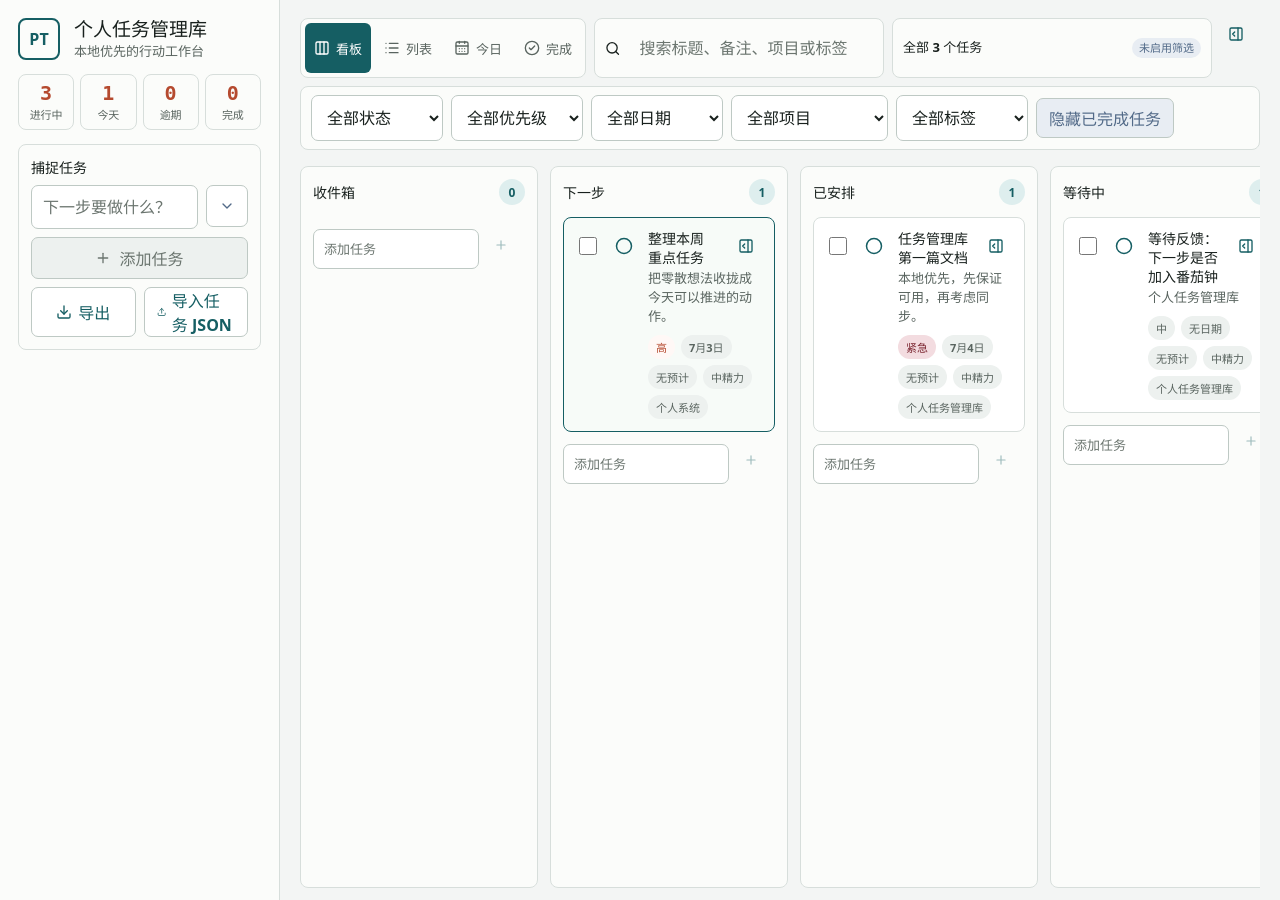
Test case: TaskWorkspace › progressively discloses quick-add details
The width and height of the screenshot is (1280, 900).
Check: the field named "任务标题" is shown, box [31,185,198,229]
Click the button named "展开详细字段" at x=227, y=206, box [206,185,248,227]
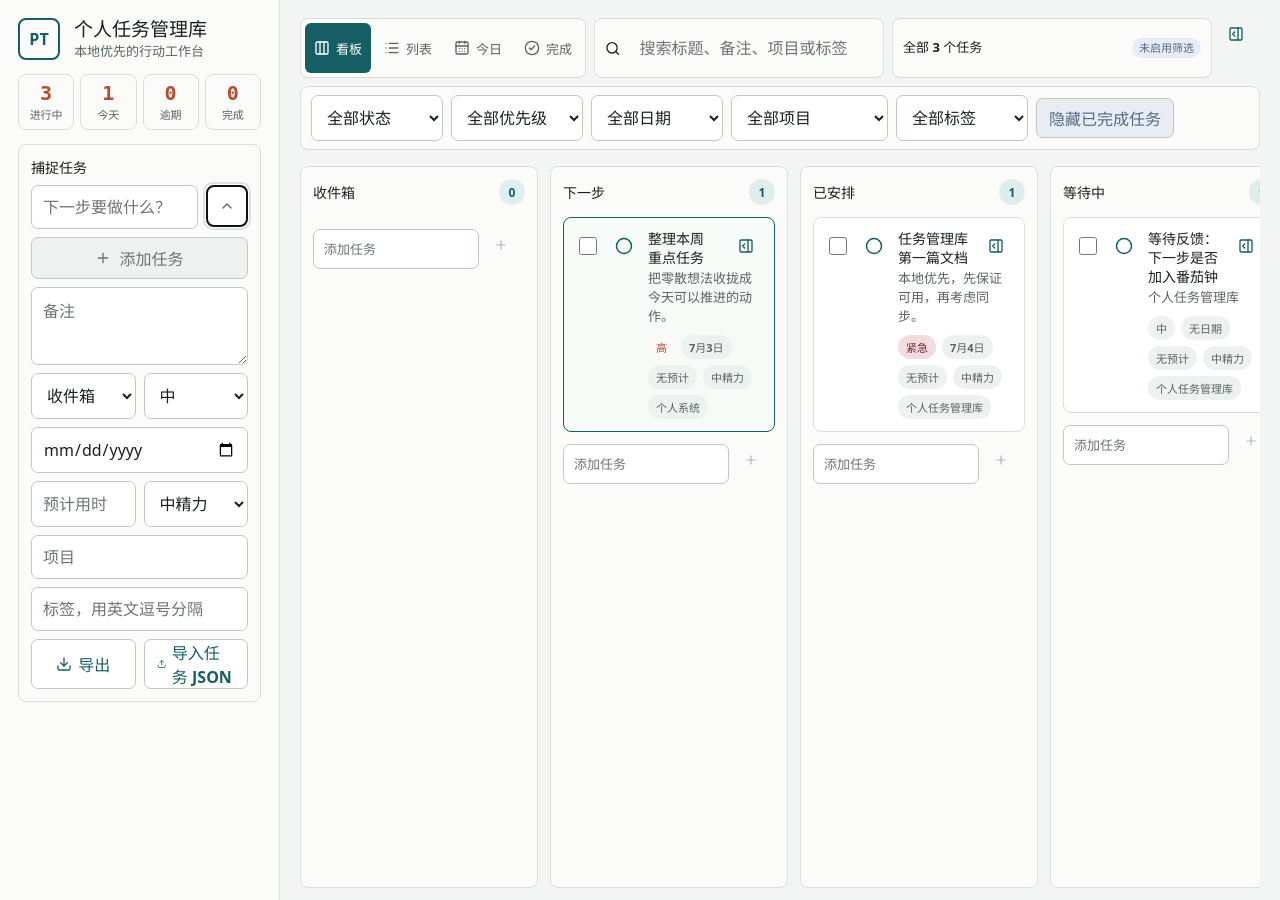
Check: the text box named "任务备注" is shown, box [31,287,248,365]
Check: the dropdown named "任务状态" is shown, box [31,373,136,419]
Check: the button named "展开详细字段" is expanded
Click the button named "收起详细字段" at x=227, y=206, box [206,185,248,227]
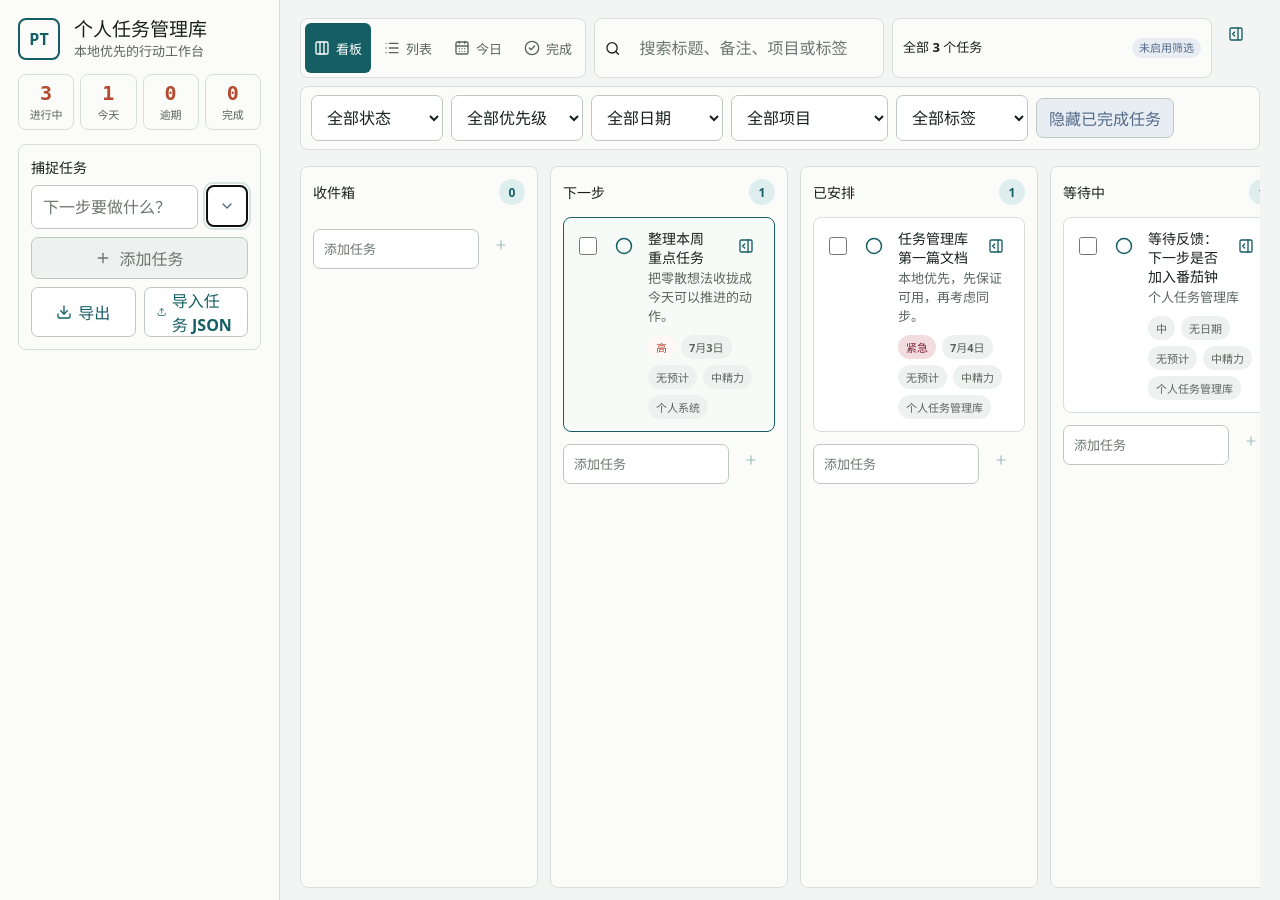
Check: the text box labelled "任务备注" is gone
Check: the button named "收起详细字段" is collapsed, box [206,185,248,227]
